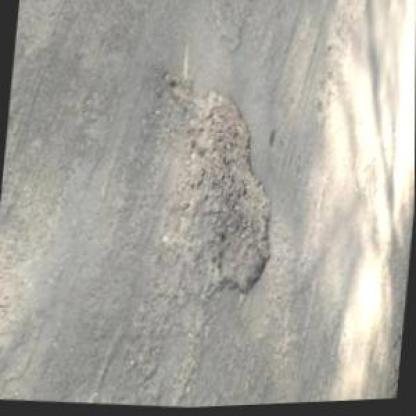pothole: (175, 86, 288, 306)
